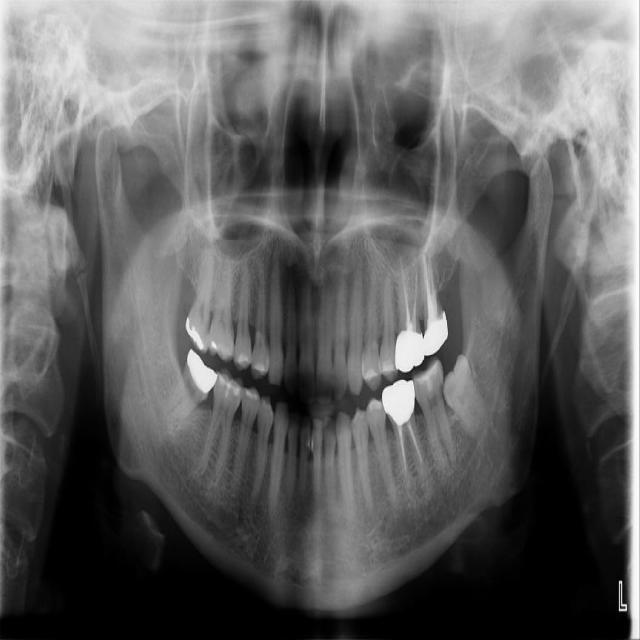Caries: (440, 383, 443, 399)
Crown: (382, 380, 416, 429), (185, 348, 218, 395), (395, 326, 424, 372), (423, 312, 448, 355)
Filling: (414, 361, 442, 390), (217, 372, 242, 402), (184, 315, 206, 348), (208, 340, 232, 358), (237, 353, 252, 366), (253, 360, 267, 373), (244, 389, 260, 399)
Root Canal Treatment: (406, 420, 423, 468), (401, 259, 411, 328), (424, 254, 431, 304), (411, 268, 417, 326), (429, 261, 437, 301), (399, 427, 405, 475)
impacted tooth: (444, 356, 490, 436)
